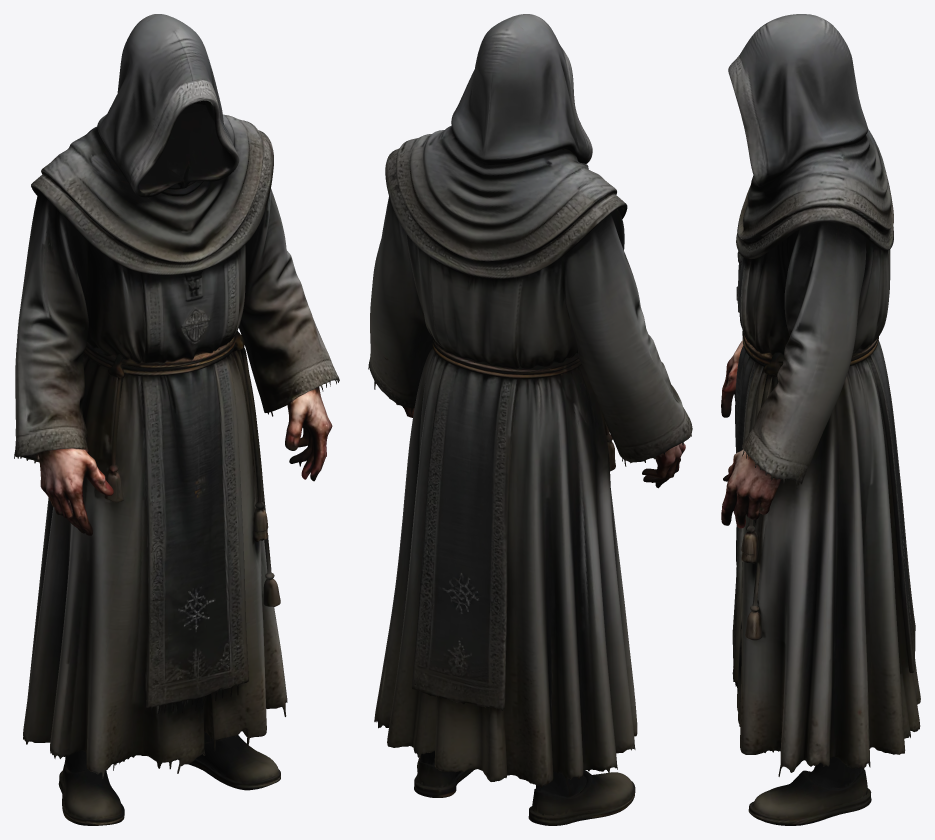
Rendered from People.glb.
3 views of the same model, side by side, from view 1: azimuth 30°, elevation 25°; view 2: azimuth 150°, elevation 25°; view 3: azimuth 270°, elevation 25° (orthographic).
Parts seen in each view (by area): view 1: material; view 2: material; view 3: material.
Boxes of the visible parts, box(x1,y1,x2,y2) form: material: box(14, 14, 339, 825); material: box(368, 14, 692, 825); material: box(721, 14, 920, 825).
Bounding box in the file's own units: 0.5011 × 1.16 × 0.2741.
Materials: 1 (1 with a texture image).
